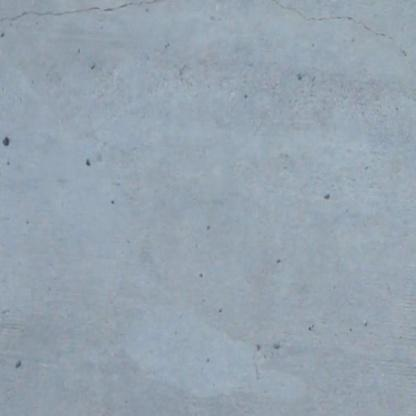Cracks: (0, 0, 416, 93)
